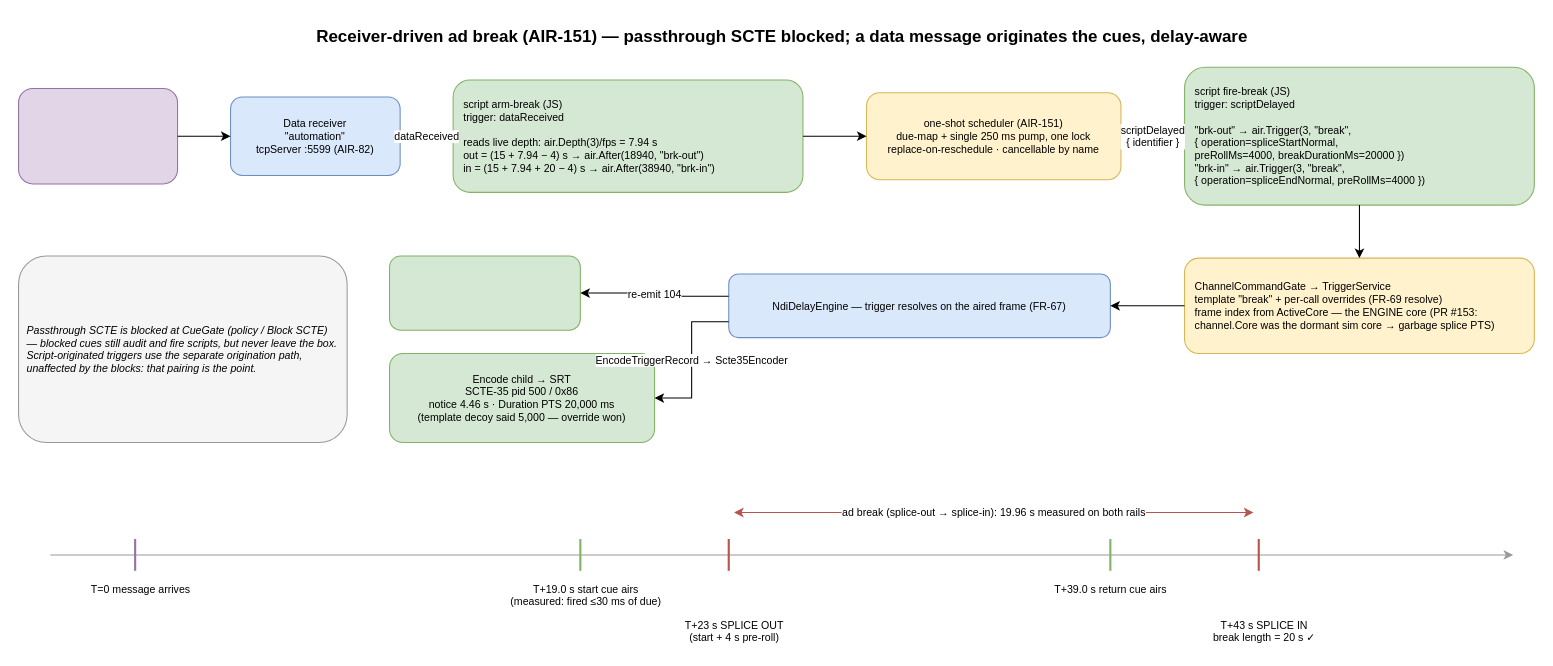
Image size: 1553x666. Some labels were removed from this diagram. Here are the shapes that lost their labels. From the top down, the centre of each, then its label:
the point at 97,135: Automation (TCP client) "BREAK 3 15 20" ch 3 · in 15 s · 20 s long
the point at 484,292: NDI out SCTE-104 VANC cues aired 19.96 s apart ✓
